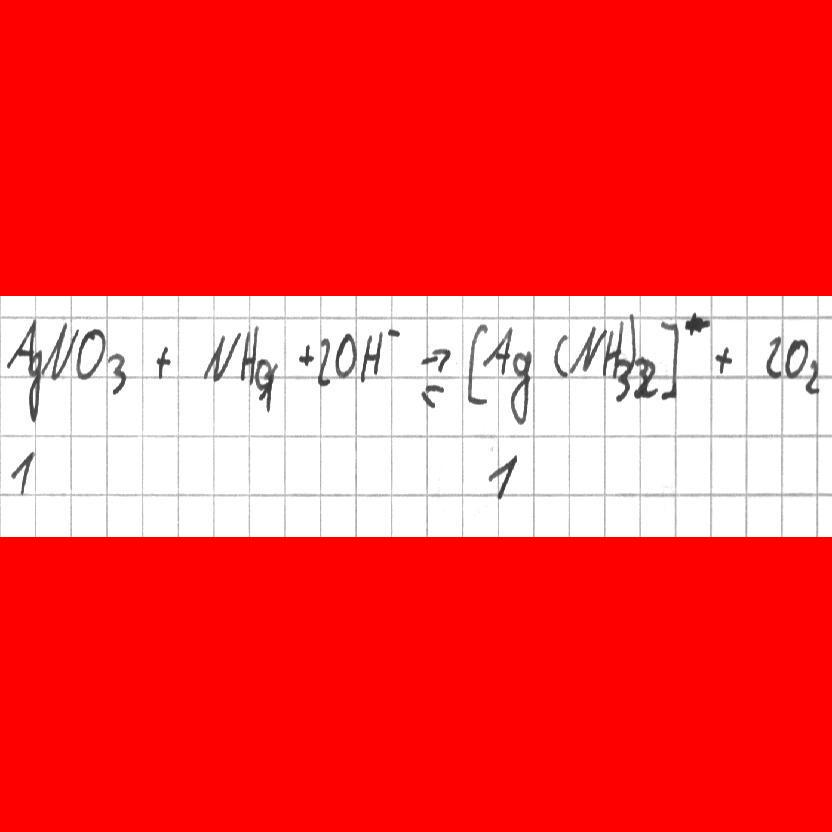Char: (461, 321, 489, 404), (481, 450, 522, 502), (42, 321, 76, 382), (1, 317, 37, 374), (508, 346, 532, 428), (202, 331, 240, 382), (73, 324, 104, 382), (481, 326, 513, 376), (571, 322, 601, 375), (659, 317, 678, 398), (357, 328, 383, 382), (6, 448, 35, 496), (603, 318, 625, 377), (26, 347, 43, 423), (634, 354, 658, 400), (258, 359, 278, 413), (240, 325, 258, 380), (334, 331, 354, 380), (420, 345, 452, 375), (784, 336, 806, 379), (551, 333, 571, 378), (108, 351, 128, 394), (613, 358, 632, 402), (764, 335, 782, 380), (315, 334, 330, 387), (152, 342, 171, 380), (803, 358, 823, 394), (421, 381, 447, 408), (712, 343, 733, 374), (685, 311, 711, 336), (626, 311, 636, 374), (298, 342, 312, 368), (384, 325, 403, 342)
